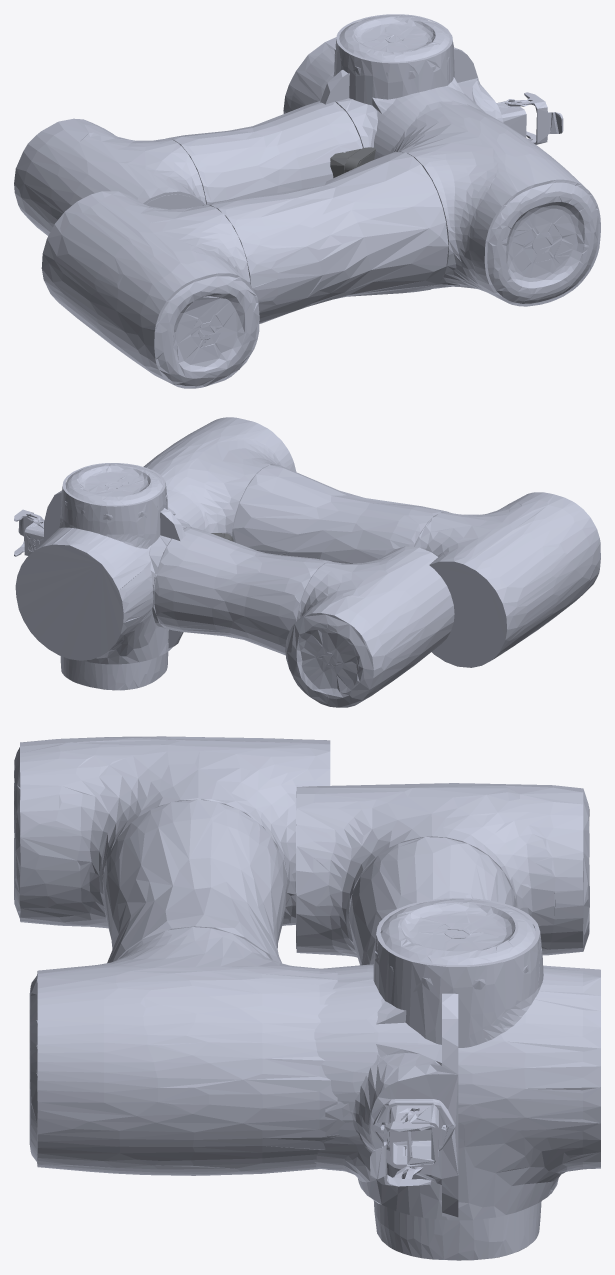
File: arm.glb
3 views of the same model, one above another, from view 1: azimuth 30°, elevation 25°; view 2: azimuth 150°, elevation 25°; view 3: azimuth 270°, elevation 25° (orthographic). The views are drawn at different scales.
Parts seen in each view (by area): view 1: b4, b5, b6, b3, b2, b10; view 2: b4, b5, b3, b6, b7, b2; view 3: b4, b5, b3, b6, b2, b7.
Part boxes in pixels (x1,y1,x2,y2): b4: [41, 100, 600, 388]; b5: [14, 98, 377, 235]; b6: [333, 14, 454, 105]; b3: [283, 37, 484, 159]; b2: [320, 47, 563, 144]; b10: [330, 147, 375, 177]; b4: [143, 417, 600, 667]; b5: [147, 518, 454, 707]; b3: [15, 489, 205, 664]; b6: [59, 463, 167, 548]; b7: [59, 484, 168, 690]; b2: [14, 490, 185, 648]; b4: [14, 736, 337, 1175]; b5: [296, 783, 589, 965]; b3: [314, 964, 600, 1220]; b6: [373, 898, 543, 1047]; b2: [325, 993, 458, 1217]; b7: [373, 931, 541, 1260].
Bounding box in the file's own units: 0.4308 × 0.1668 × 0.2871.
